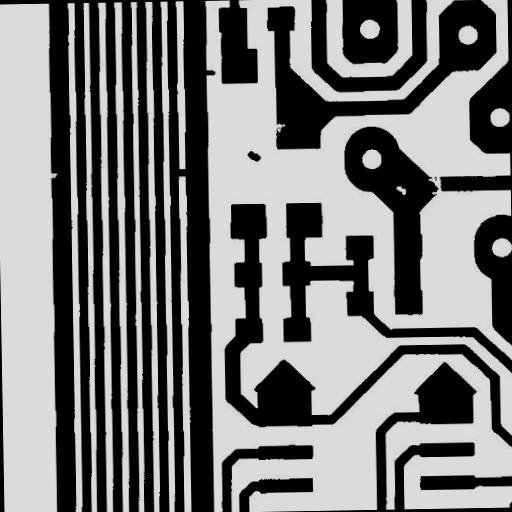copper: (240, 143, 268, 169)
mousebite: (420, 160, 452, 210), (265, 116, 293, 140), (40, 165, 65, 186)
pin-hole: (388, 178, 414, 202)
short: (168, 161, 198, 184)
spur: (196, 62, 222, 82)
